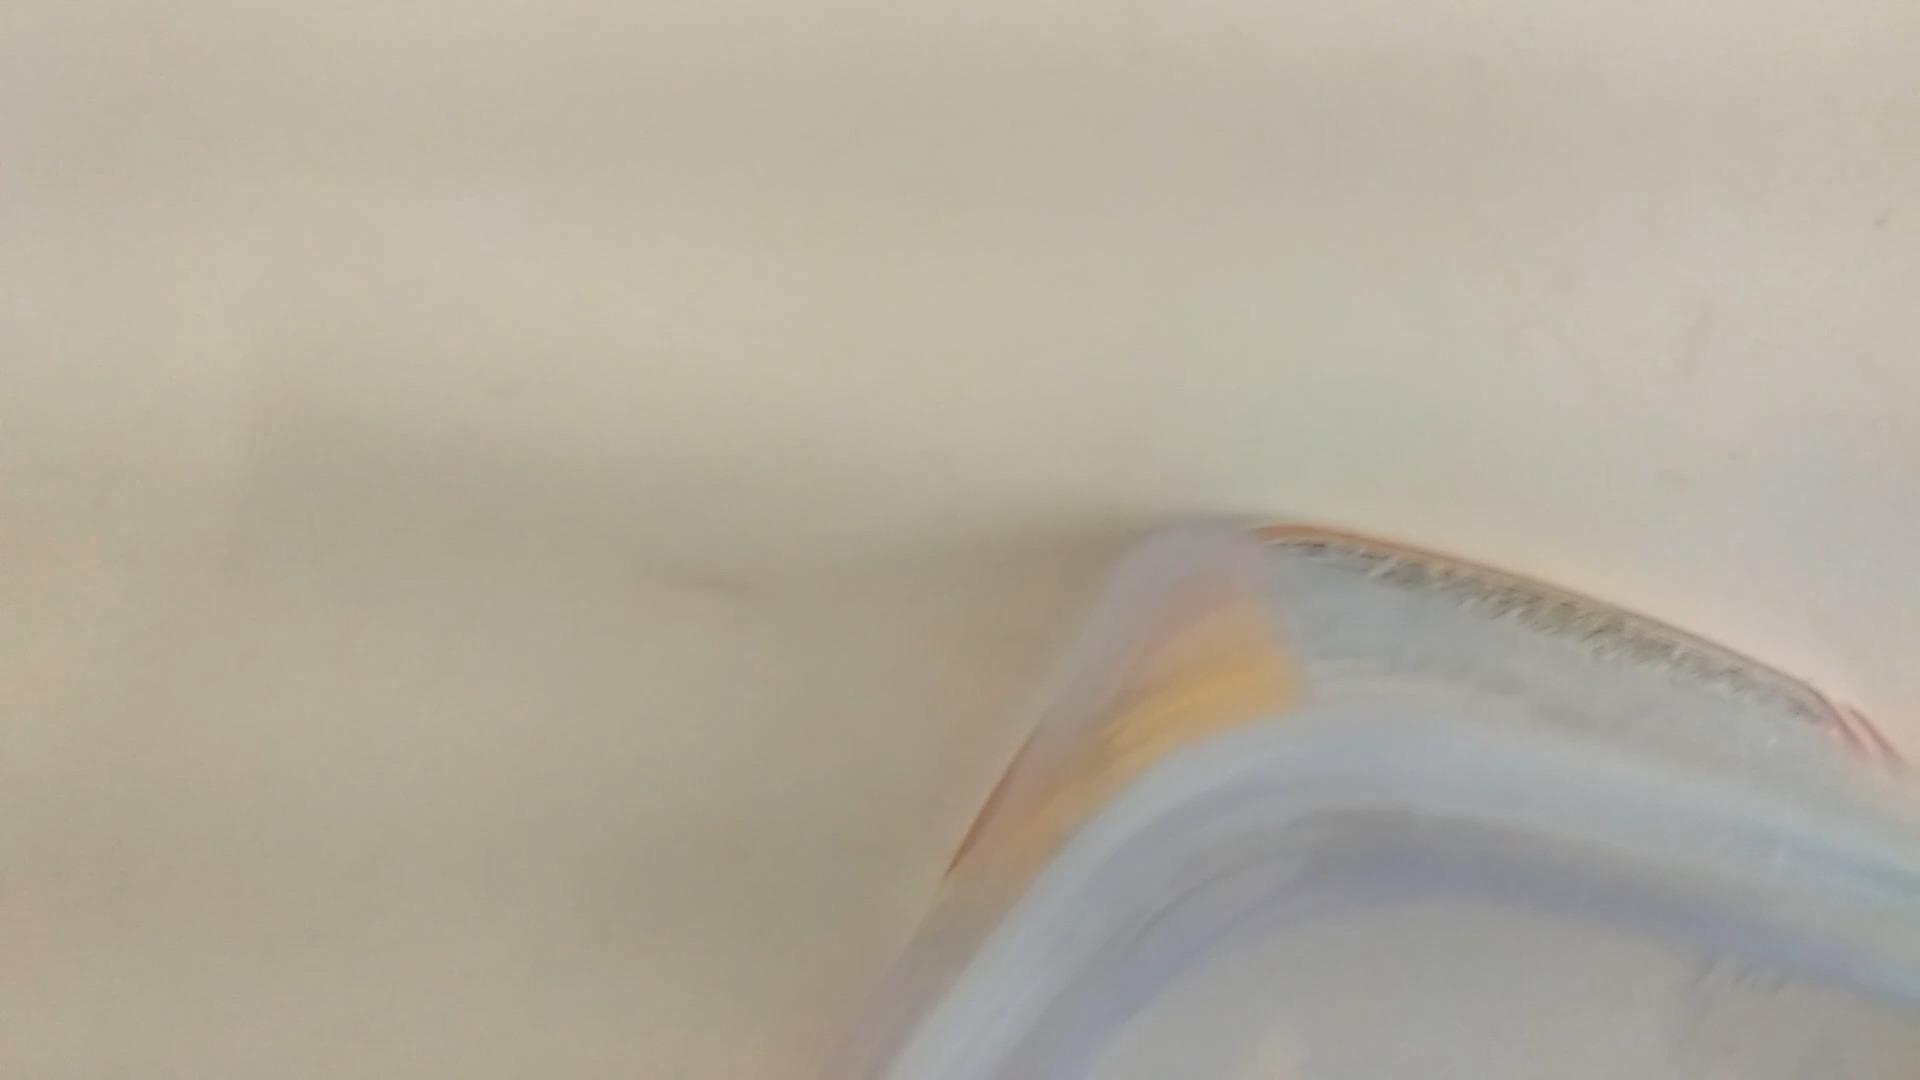butter: (818, 483, 1920, 1080)
